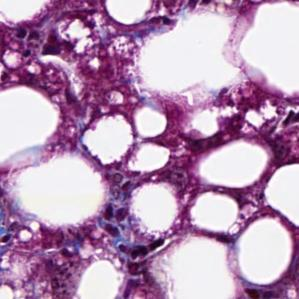inflammation: (113, 233, 170, 269), (98, 199, 130, 243)
